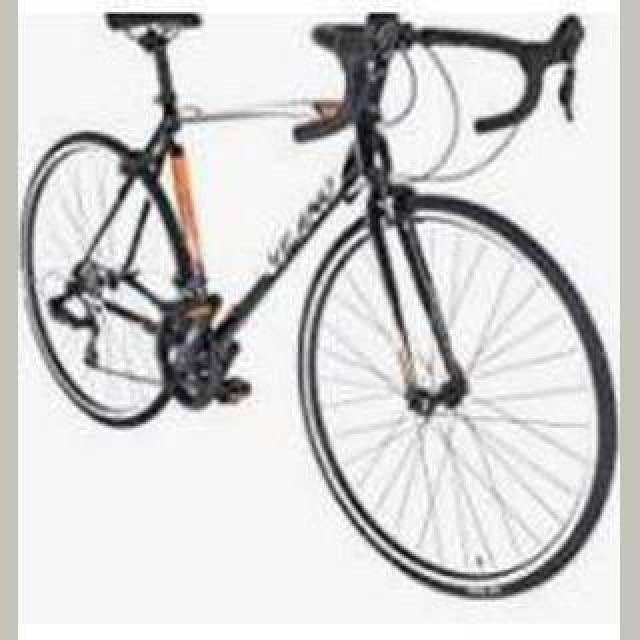Person: (18, 0, 620, 602)
